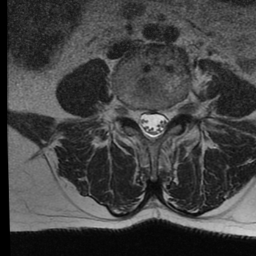CCS_normal: (147, 100, 158, 148)
LFS_normal: (169, 95, 179, 127)
LLS_normal: (158, 100, 169, 139)
RFS_normal: (126, 95, 136, 129)
RLS_normal: (136, 100, 147, 142)
